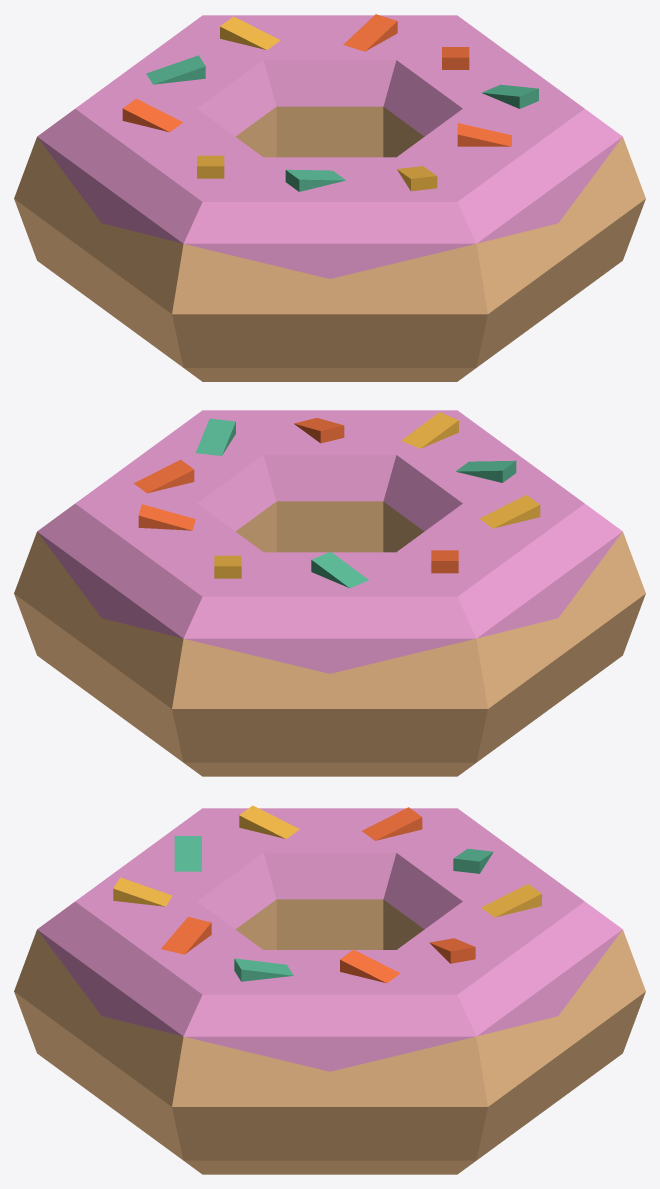
File: donutSprinkles.fbx
3 views of the same model, one above another, from view 1: azimuth 30°, elevation 25°; view 2: azimuth 150°, elevation 25°; view 3: azimuth 270°, elevation 25° (orthographic).
Visible parts, largest first — view 1: donutSprinkles; view 2: donutSprinkles; view 3: donutSprinkles.
Boxes of the visible parts, left/top/right/bottom form: donutSprinkles: left=14, top=14, right=645, bottom=381; donutSprinkles: left=14, top=410, right=645, bottom=776; donutSprinkles: left=14, top=805, right=645, bottom=1174.
Bounding box in the file's own units: 2.45 × 0.9499 × 2.83.
